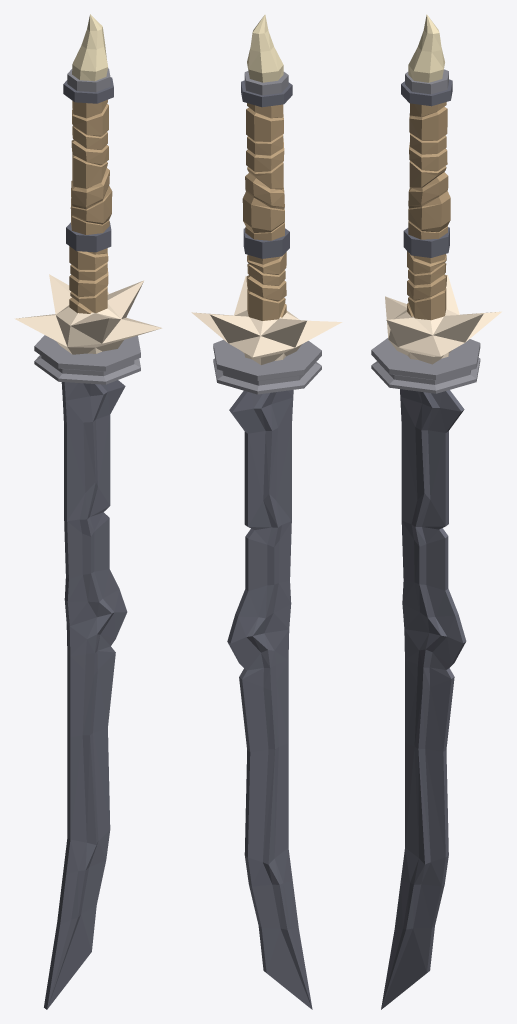
The model's file is _SWORD_3.fbx.
3 views of the same model, side by side, from view 1: azimuth 30°, elevation 25°; view 2: azimuth 210°, elevation 25°; view 3: azimuth 330°, elevation 25° (orthographic). The views are drawn at different scales.
Parts seen in each view (by area): view 1: SWORD_3; view 2: SWORD_3; view 3: SWORD_3.
Boxes of the visible parts, x1,y1,x2,y2 form: SWORD_3: [14, 14, 162, 1009]; SWORD_3: [191, 14, 342, 1009]; SWORD_3: [371, 14, 501, 1009].
Bounding box in the file's own units: 23.99 × 199 × 22.03.
